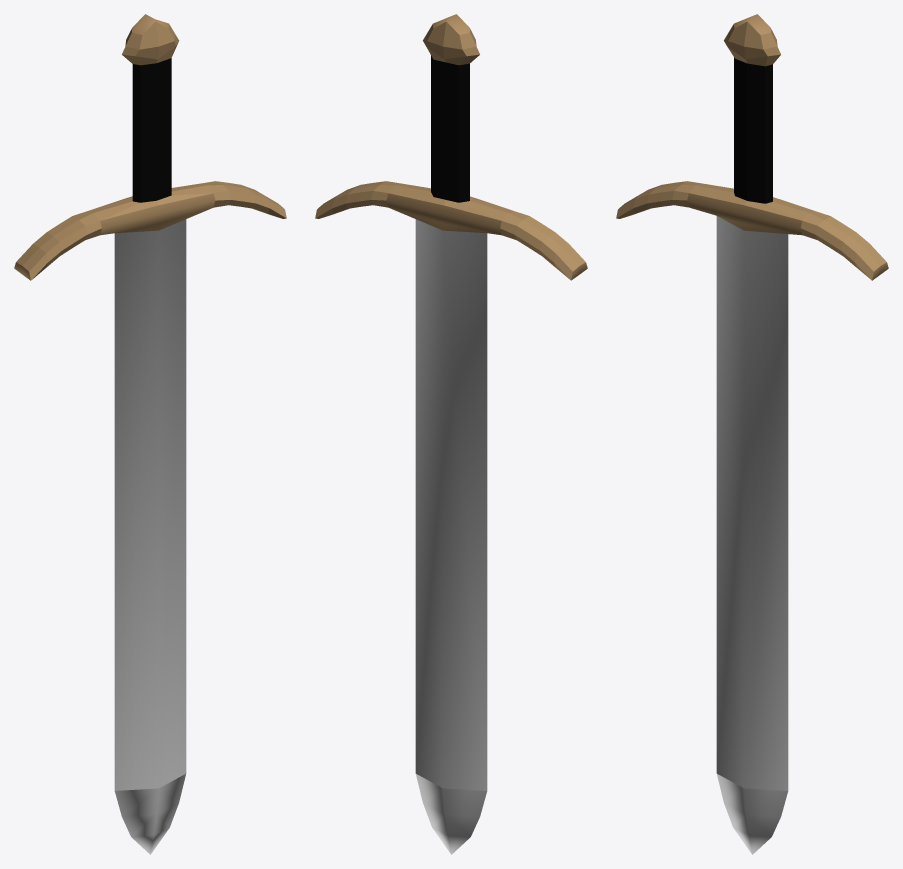
3 views of the same model, side by side, from view 1: azimuth 30°, elevation 25°; view 2: azimuth 150°, elevation 25°; view 3: azimuth 330°, elevation 25° (orthographic).
Parts seen in each view (by area): view 1: Box001; view 2: Box001; view 3: Box001.
Boxes of the visible parts, box(x1,y1,x2,y2) form: Box001: box(14, 14, 286, 854); Box001: box(315, 14, 587, 854); Box001: box(616, 14, 888, 854).
Size of the model in its own units: 52.87 by 165 by 6.06.
